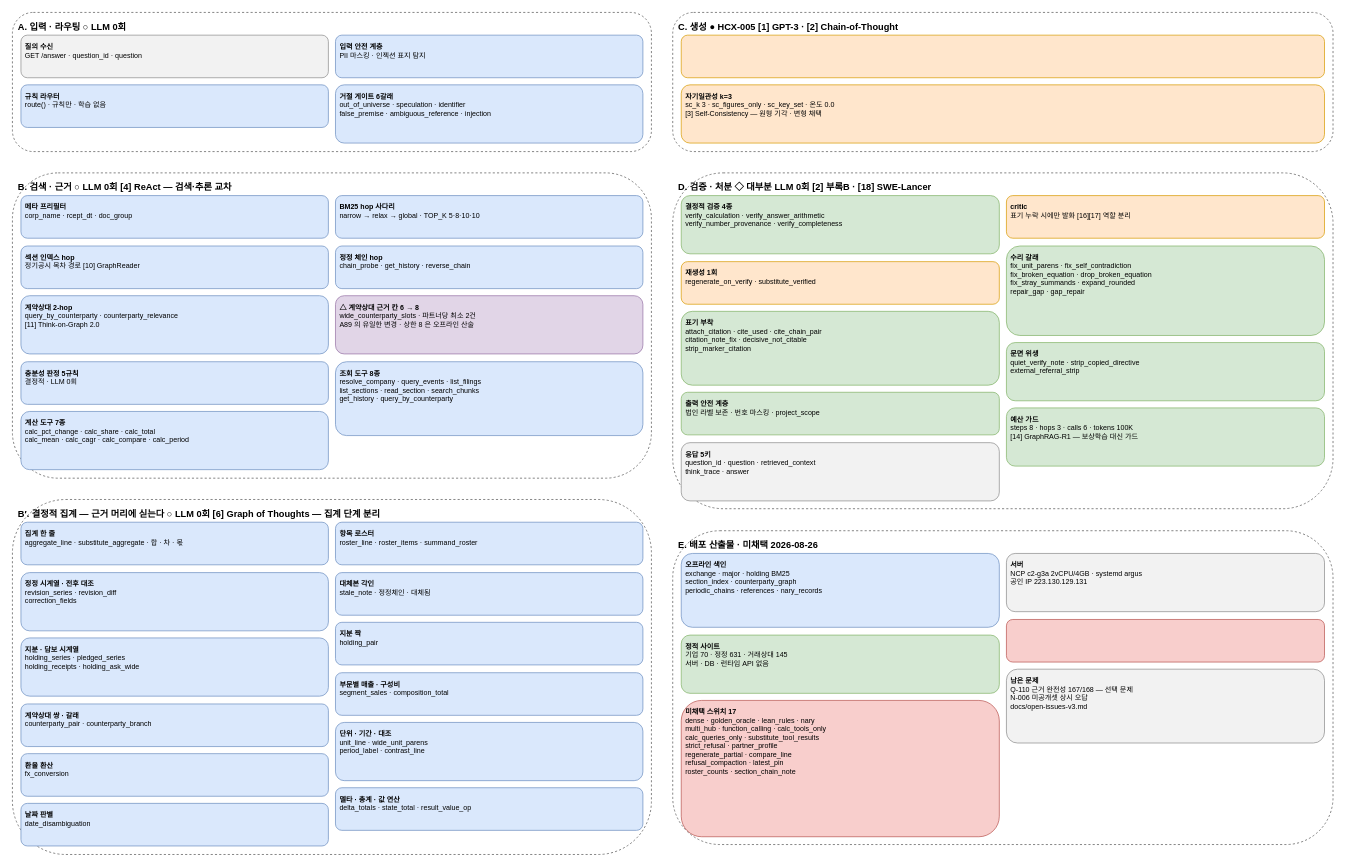
Image size: 1345x867. Some labels were removed from this diagram. Each missing label, with the centre of its shape:
"답변 생성 온도 0.0 · 난이도 상이면 CoT · think_trace [2]" belongs at [1003,56].
"배포 제외 원본 5.55GB · 임베딩 API" belongs at [1165,640].
